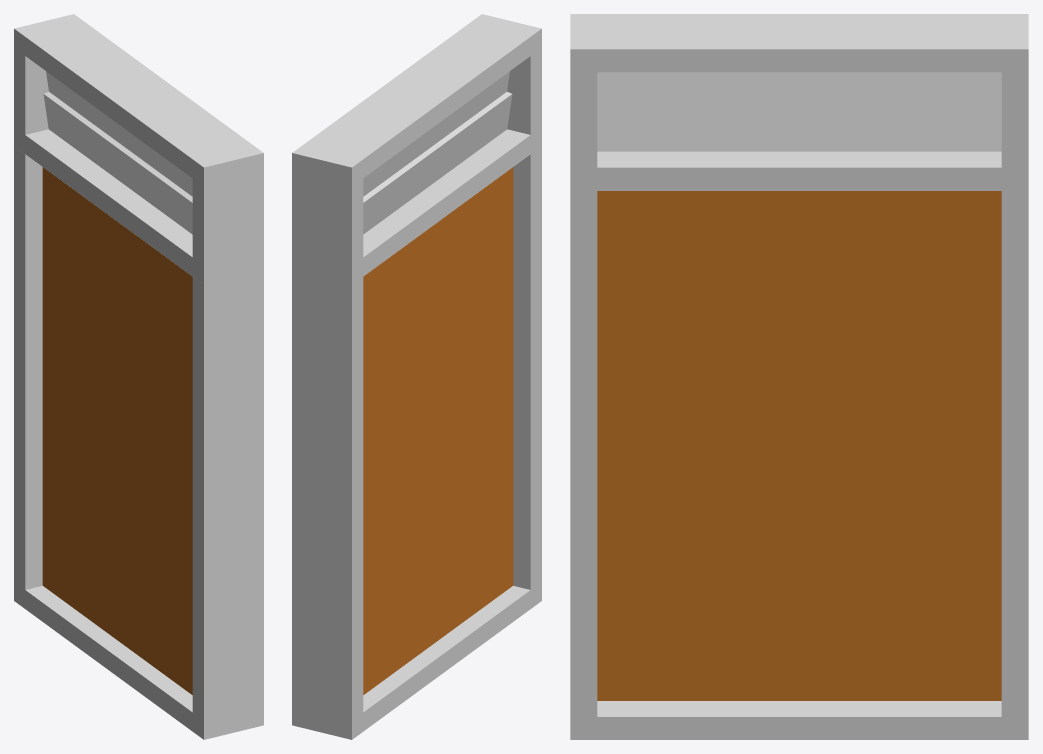
The model's file is Pintu.fbx.
3 views of the same model, side by side, from view 1: azimuth 30°, elevation 25°; view 2: azimuth 150°, elevation 25°; view 3: azimuth 270°, elevation 25° (orthographic). The views are drawn at different scales.
Visible parts, largest first — view 1: jendela.002; view 2: jendela.002; view 3: jendela.002.
Boxes of the visible parts, x1,y1,x2,y2 form: jendela.002: (14,14,263,739); jendela.002: (292,14,541,739); jendela.002: (570,14,1028,739).
Size of the model in its own units: 215 by 1963 by 1181.
